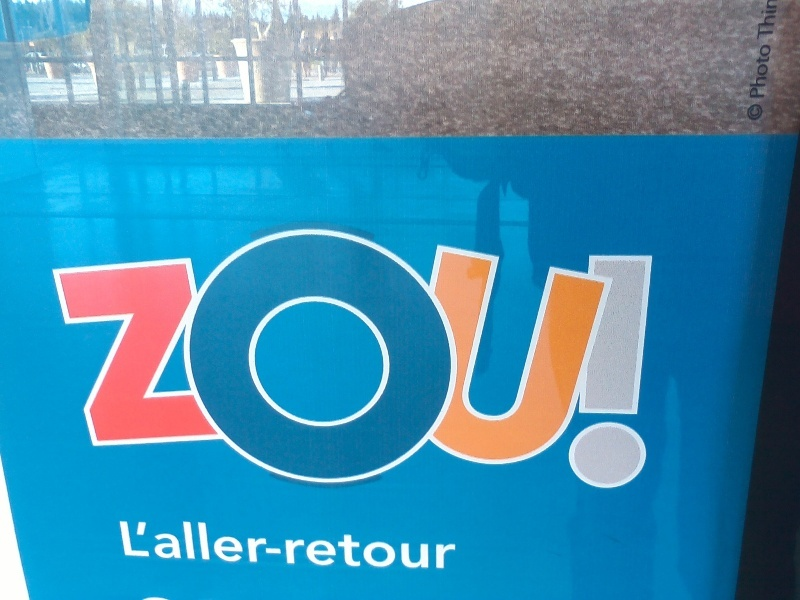text: (49, 222, 64, 491), (65, 222, 80, 491), (81, 222, 96, 491), (97, 222, 112, 491), (113, 222, 128, 491), (129, 222, 144, 491), (145, 222, 160, 491), (161, 222, 176, 491), (177, 222, 192, 491), (193, 222, 208, 491), (209, 222, 224, 491), (225, 222, 240, 491), (241, 222, 256, 491), (257, 222, 272, 491), (273, 222, 288, 491), (289, 222, 304, 491), (305, 222, 320, 491), (321, 222, 336, 491), (337, 222, 352, 491), (353, 222, 368, 491), (369, 222, 384, 491), (385, 222, 400, 491), (401, 222, 416, 491), (417, 222, 432, 491), (433, 222, 448, 491), (449, 222, 464, 491), (465, 222, 480, 491), (481, 222, 496, 491), (497, 222, 512, 491), (513, 222, 528, 491), (529, 222, 544, 491), (545, 222, 560, 491), (561, 222, 576, 491), (577, 222, 592, 491), (593, 222, 608, 491), (609, 222, 624, 491), (625, 222, 640, 491), (641, 222, 656, 491), (657, 222, 661, 491), (129, 518, 144, 572), (145, 518, 160, 572), (161, 518, 176, 572), (177, 518, 192, 572), (193, 518, 208, 572), (209, 518, 224, 572), (225, 518, 240, 572), (241, 518, 256, 572), (257, 518, 272, 572), (273, 518, 288, 572), (289, 518, 304, 572), (305, 518, 320, 572), (321, 518, 336, 572), (337, 518, 352, 572), (353, 518, 368, 572), (369, 518, 384, 572), (385, 518, 400, 572), (401, 518, 416, 572), (417, 518, 432, 572), (433, 518, 448, 572), (757, 43, 768, 99), (118, 518, 128, 572), (449, 518, 458, 572), (769, 1, 781, 40), (769, 43, 775, 99), (764, 1, 768, 40), (753, 107, 763, 118)
